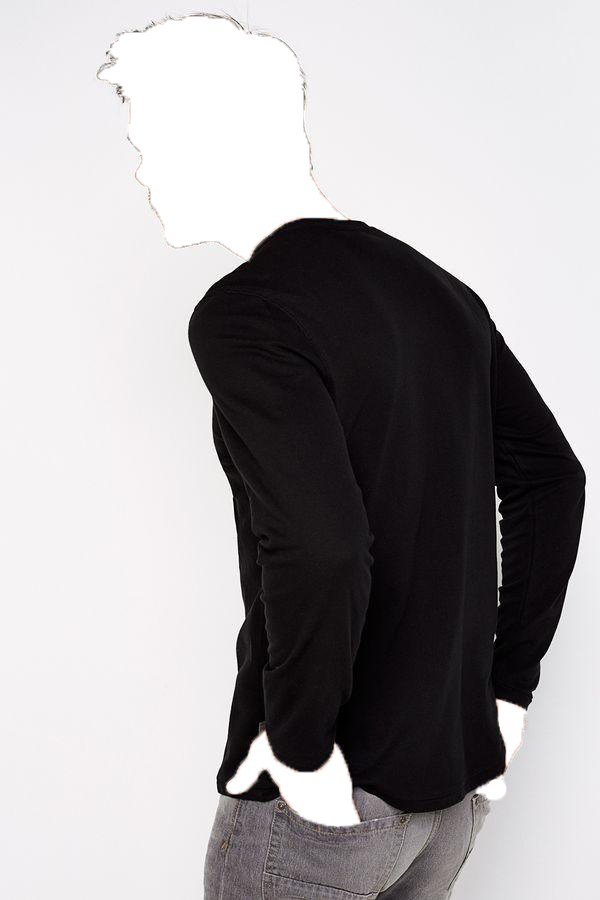teeshirt: (179, 222, 596, 808)
